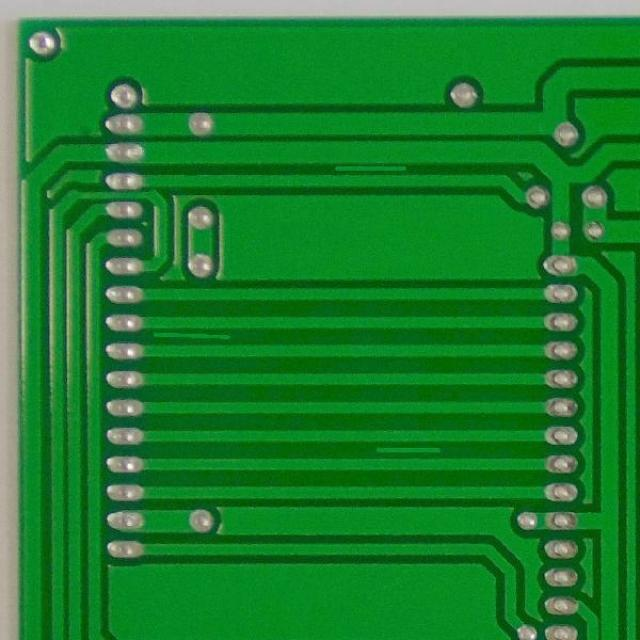Spurious_Cooper: (150, 330, 233, 342), (373, 444, 446, 456), (330, 164, 410, 174)
